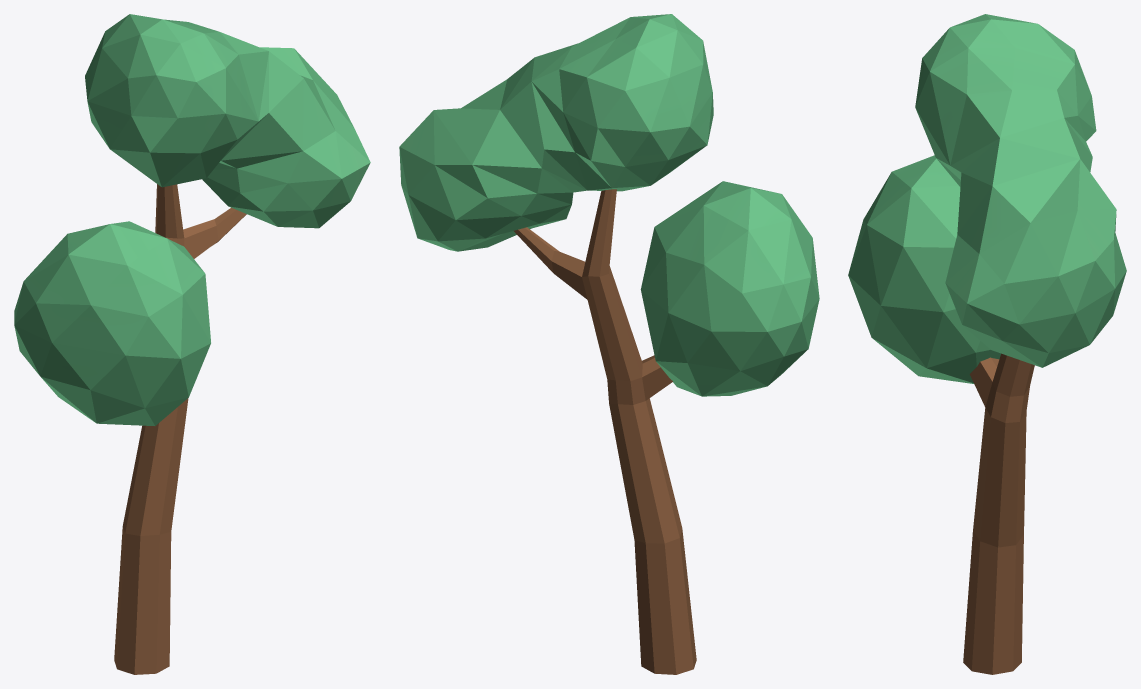
File: SM_tree1.fbx
The picture shows the model from 3 angles, left to right: view 1: azimuth 30°, elevation 25°; view 2: azimuth 150°, elevation 25°; view 3: azimuth 270°, elevation 25°; orthographic projection. The views are drawn at different scales.
Parts seen in each view (by area): view 1: SM_tree1; view 2: SM_tree1; view 3: SM_tree1.
Boxes of the visible parts, <box> form: SM_tree1: <box>14,14,370,674</box>; SM_tree1: <box>399,14,819,674</box>; SM_tree1: <box>848,14,1126,674</box>.
Bounding box in the file's own units: 3.04 × 5.16 × 1.99.
